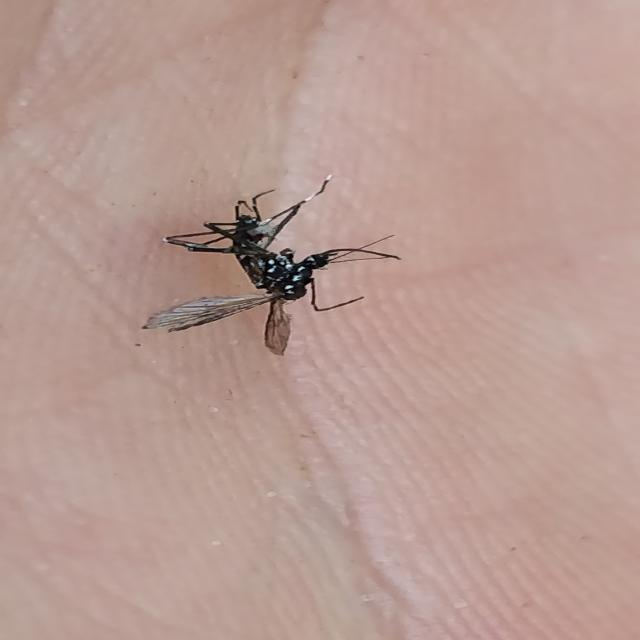albopictus: (141, 168, 403, 352)
